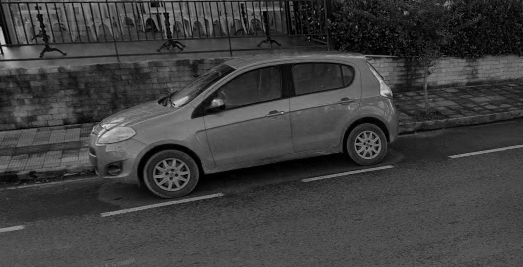car: (84, 48, 405, 202)
